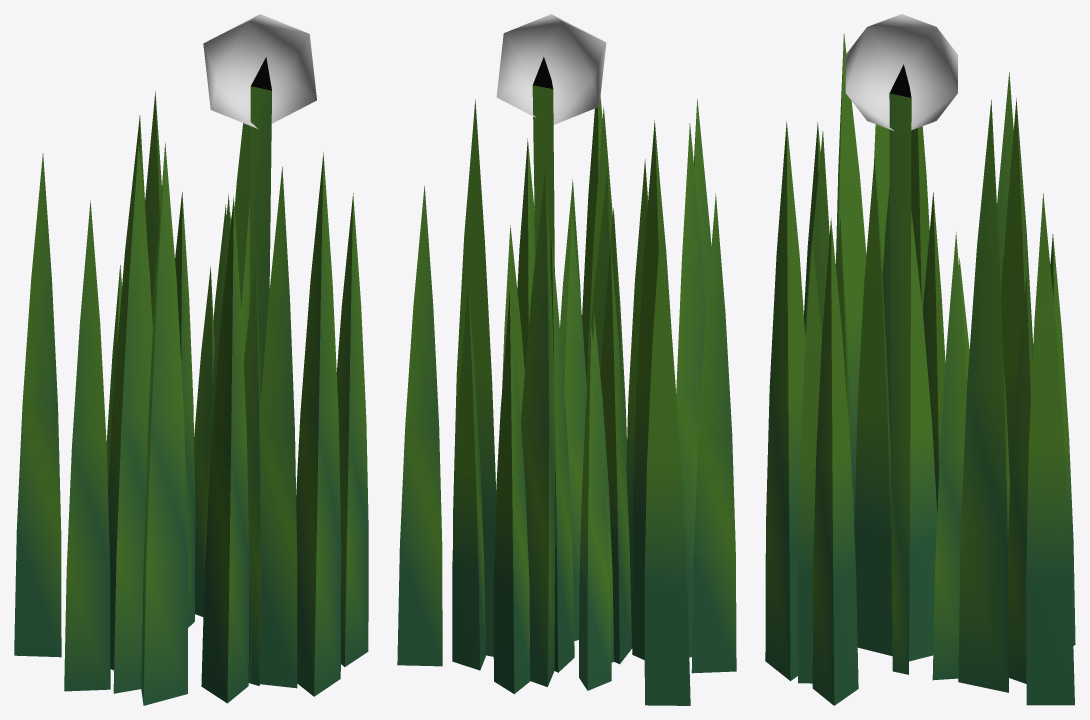
The model's file is grass.glb.
3 renders of one model, left to right at view 1: azimuth 30°, elevation 25°; view 2: azimuth 150°, elevation 25°; view 3: azimuth 270°, elevation 25°, orthographic. The views are drawn at different scales.
Parts seen in each view (by area): view 1: Grass; view 2: Grass; view 3: Grass.
Part boxes in pixels (bbox=[...]): Grass: bbox=[14, 14, 368, 705]; Grass: bbox=[397, 14, 736, 705]; Grass: bbox=[765, 14, 1075, 705].
Size of the model in its own units: 0.0704 by 0.158 by 0.0675.
